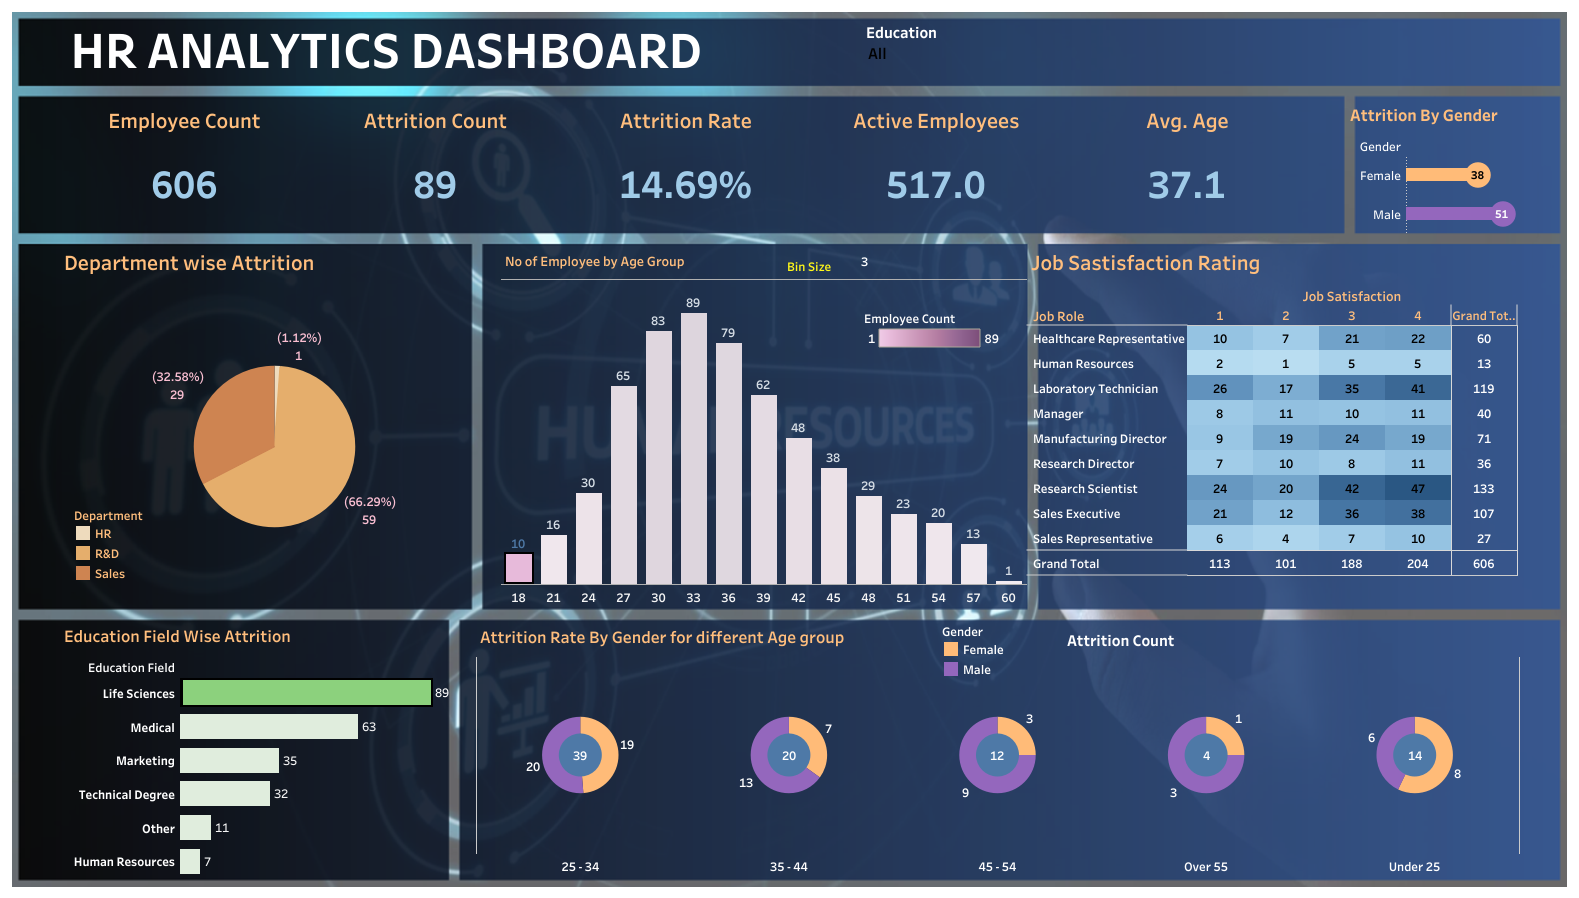

The dashboard page shown, as its layout file describes it:
{"tool":"tableau","page":{"name":"HR ANALYTICS DASHBOARD","canvas":[1000,1000],"units":"permille","ordinal":0},"visuals":[{"type":"image","param":"Image/HR background.pptx (1).png","box":[5.1,9.4,989.9,981.2]},{"type":"text","box":[43,18.8,547.5,68.1]},{"type":"filter","title":"Attrition Rate By Gender for different Age group","param":"[federated.1acrjf61ue1pe21f40dm00ryetqg].[none:Education:nk]","box":[548.1,22.3,101.3,72.8]},{"type":"worksheet","title":"KPI","mark":"Automatic","box":[37.3,104.5,793.7,153.8]},{"type":"worksheet","title":"Attrition By Gender","mark":"Automatic","rows":["Gender"],"cols":["Calculation_1104507843704217600","Calculation_1104507843704217600"],"box":[839.2,108,124,151.4]},{"type":"worksheet","title":"Department wise Attrition","mark":"Pie","box":[38,268.8,271.5,407.3]},{"type":"worksheet","title":"Job Sastisfaction Rating","mark":"Square","rows":["Job Role"],"cols":["Job Satisfaction"],"box":[650,268.8,312,406.1]},{"type":"worksheet","title":"No of Employee by Age Group","mark":"Automatic","rows":["Employee Count"],"cols":["Age (bin) 2"],"box":[317.1,272.3,332.9,402.6]},{"type":"parameter","param":"[Parameters].[Parameter 1]","box":[498.1,280.5,151.3,29.3]},{"type":"legend","title":"No of Employee by Age Group","param":"[federated.1acrjf61ue1pe21f40dm00ryetqg].[sum:Employee Count:qk]","box":[546.8,339.2,88.6,77.5]},{"type":"legend","title":"Department wise Attrition","param":"[federated.1acrjf61ue1pe21f40dm00ryetqg].[none:Department:nk]","box":[46.2,561,71.5,99.8]},{"type":"worksheet","title":"Education Field Wise Attrition","mark":"Automatic","rows":["Education Field"],"cols":["Calculation_1104507843704217600"],"box":[38,687.8,258.2,288.7]},{"type":"worksheet","title":"Attrition Rate By Gender for different Age group","mark":"Pie","rows":["Calculation_961800030862327811","Calculation_961800030862327811"],"cols":["CF_age band"],"box":[301.3,689,660.8,285.2]},{"type":"legend","title":"Attrition Rate By Gender for different Age group","param":"[federated.1acrjf61ue1pe21f40dm00ryetqg].[none:Gender:nk]","box":[595.6,690.1,88,86.9]},{"type":"filter","title":"Attrition Rate By Gender for different Age group","param":"[federated.1acrjf61ue1pe21f40dm00ryetqg].[sum:Calculation_1104507843704217600:qk","box":[675.3,698.4,278.5,64.5]}]}

Visuals, with their boxes on the dashboard's canvas, which has no fixed pixel size, in thousandths of its width and height (x1, y1, x2, y2). These are canvas units, not pixel positions in the 1579x898 screenshot, which may show the page scaled, cropped or inside an application window:
image: select_region(5, 9, 995, 991)
text: select_region(43, 19, 590, 87)
"Attrition Rate By Gender for different Age group" filter: select_region(548, 22, 649, 95)
"KPI" worksheet: select_region(37, 104, 831, 258)
"Attrition By Gender" worksheet: select_region(839, 108, 963, 259)
"Department wise Attrition" worksheet (Pie marks): select_region(38, 269, 310, 676)
"Job Sastisfaction Rating" worksheet (Square marks): select_region(650, 269, 962, 675)
"No of Employee by Age Group" worksheet: select_region(317, 272, 650, 675)
parameter: select_region(498, 280, 649, 310)
"No of Employee by Age Group" legend: select_region(547, 339, 635, 417)
"Department wise Attrition" legend: select_region(46, 561, 118, 661)
"Education Field Wise Attrition" worksheet: select_region(38, 688, 296, 976)
"Attrition Rate By Gender for different Age group" worksheet (Pie marks): select_region(301, 689, 962, 974)
"Attrition Rate By Gender for different Age group" legend: select_region(596, 690, 684, 777)
"Attrition Rate By Gender for different Age group" filter: select_region(675, 698, 954, 763)
